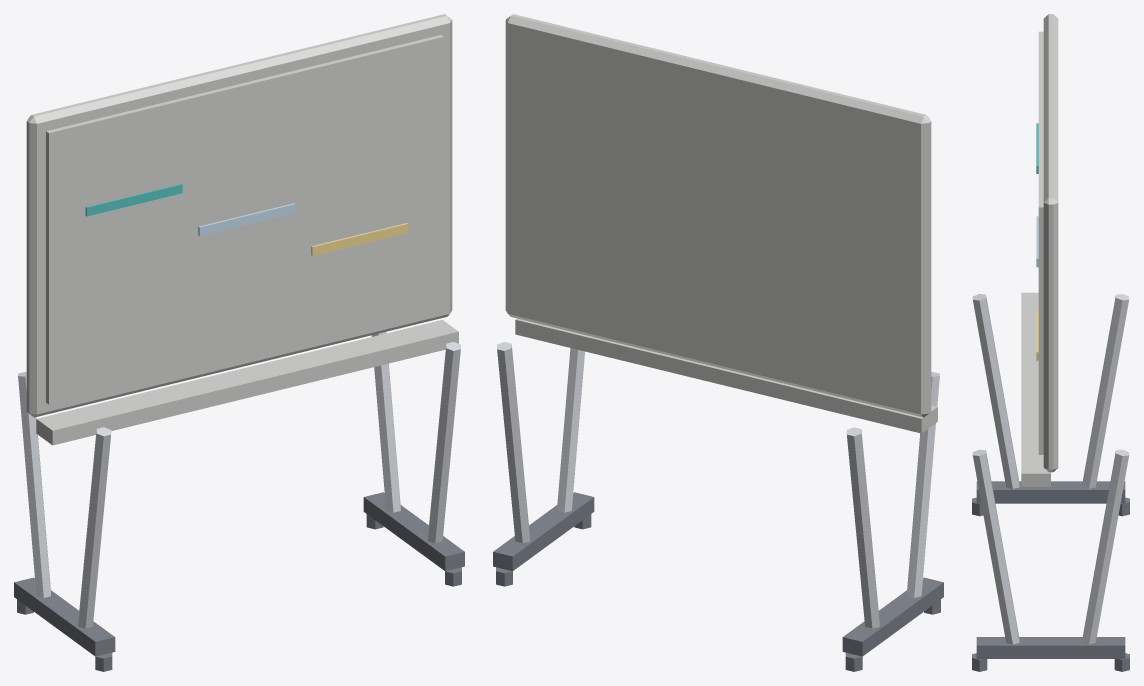
File: medical-23644.glb
3 views of the same model, side by side, from view 1: azimuth 30°, elevation 25°; view 2: azimuth 150°, elevation 25°; view 3: azimuth 270°, elevation 25° (orthographic). The views are drawn at different scales.
Parts seen in each view (by area): view 1: whiteboard; view 2: whiteboard; view 3: whiteboard.
Part boxes in pixels (x1,y1,x2,y2): whiteboard: (14, 14, 464, 671); whiteboard: (493, 14, 943, 671); whiteboard: (972, 14, 1129, 671).
Size of the model in its own units: 1.5 by 1.8 by 0.5319.
